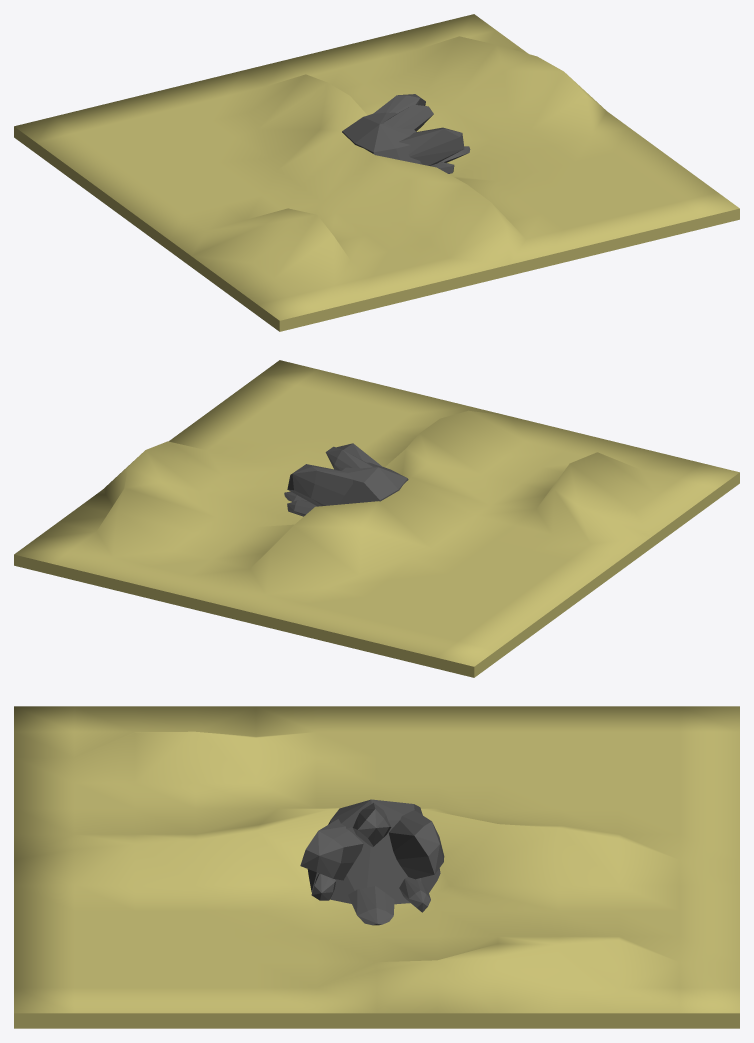
The model's file is Desert III.fbx.
The picture shows the model from 3 angles, top to bottom: view 1: azimuth 30°, elevation 25°; view 2: azimuth 150°, elevation 25°; view 3: azimuth 270°, elevation 25°; orthographic projection. The views are drawn at different scales.
Visible parts, largest first — view 1: Desert III; view 2: Desert III; view 3: Desert III.
Part boxes in pixels (x1,y1,x2,y2): Desert III: (14,14,739,331); Desert III: (14,360,739,677); Desert III: (14,706,739,1028).
Bounding box in the file's own units: 1600 × 218 × 1600.
